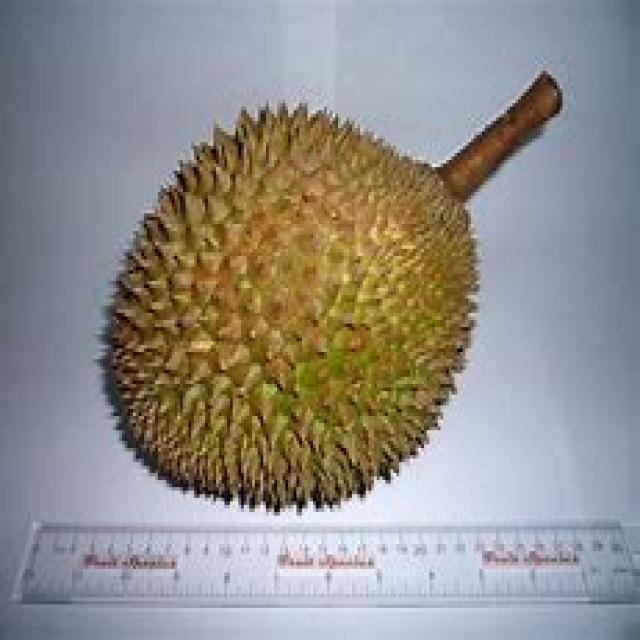mature: (109, 107, 478, 511)
